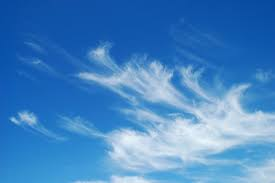Cirrus: (60, 32, 274, 178)
